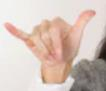clockwise: (2, 7, 97, 65)
